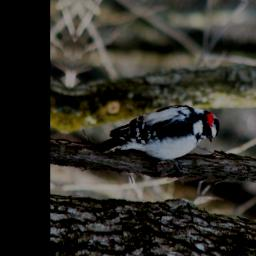Woodpecker: (87, 89, 221, 176)
